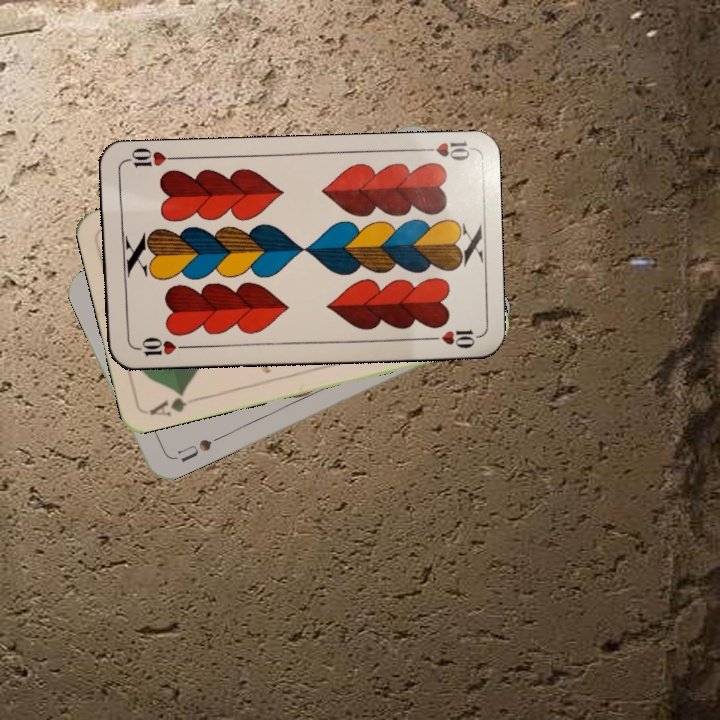GA: (145, 387, 190, 419)
H10: (130, 333, 189, 359), (414, 138, 473, 163)
SU: (173, 434, 215, 465)
